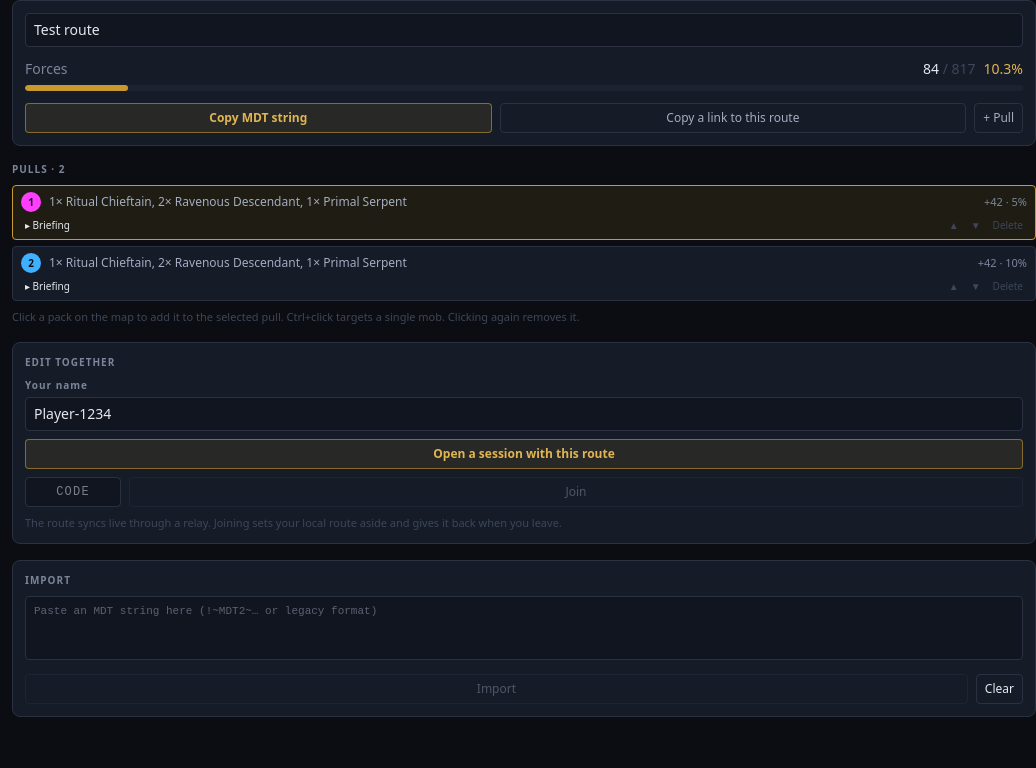
Scenario: Copying a link to the route › writes a link carrying this route to the clipboard
What coordinates should you click on to do the following:
click the button "Copy a link to this route"
I would click on:
 (733, 118)
Its box is [500,103,966,133].
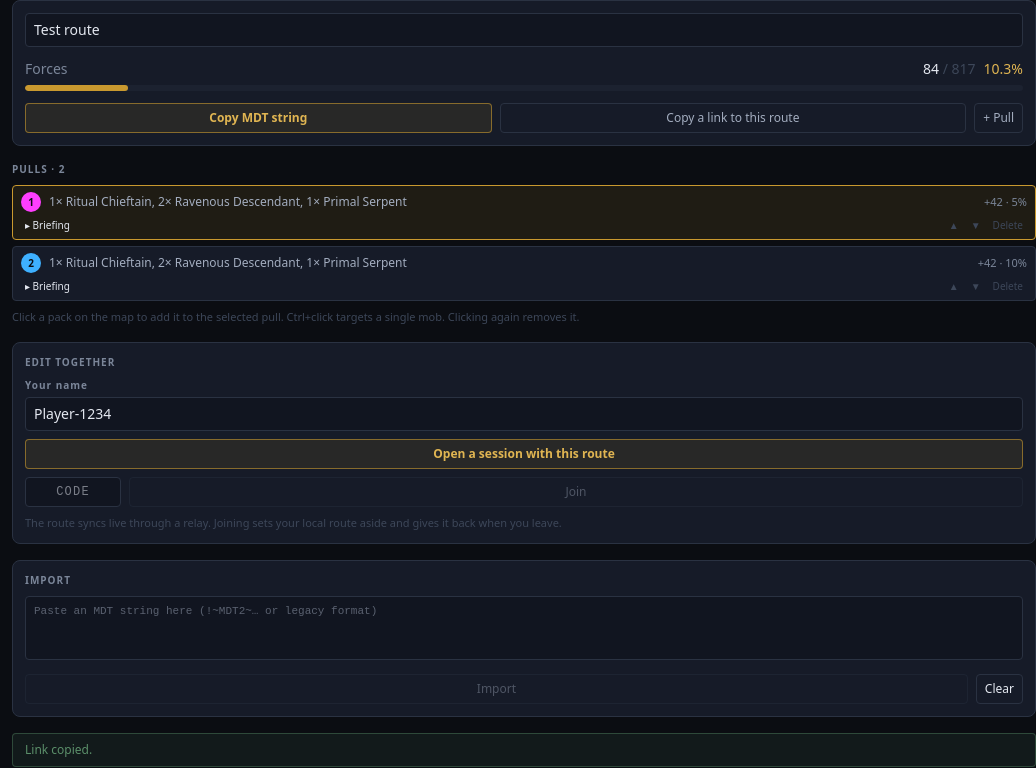
Now the text "Link copied." is shown, box [12,732,1035,766]
